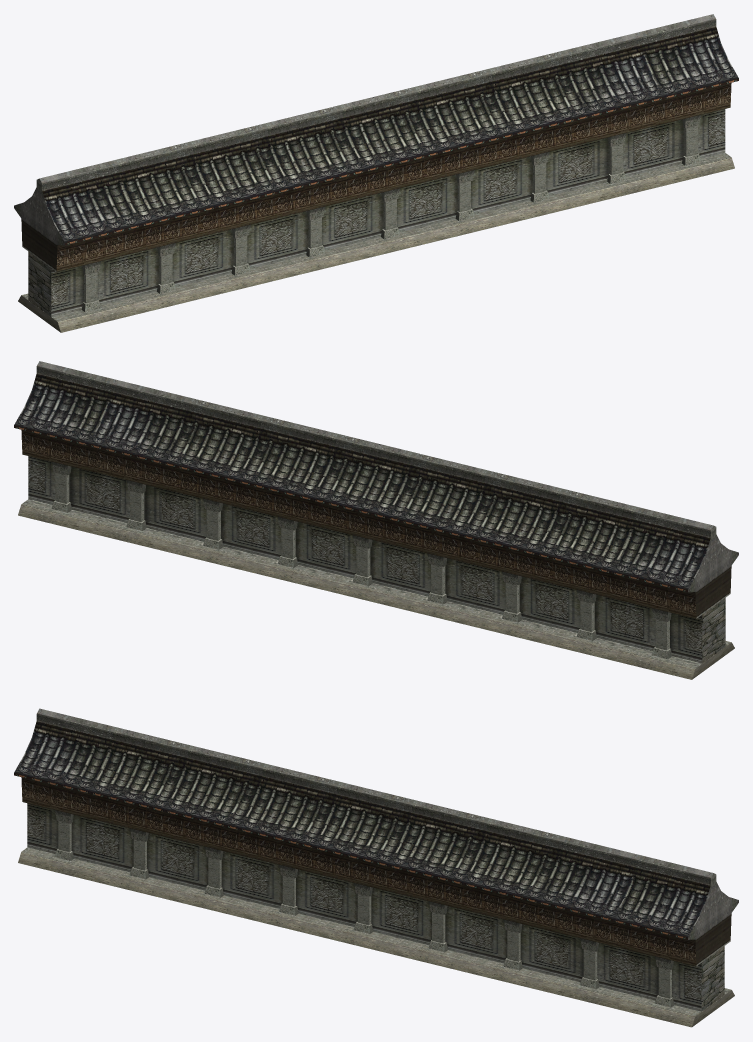
The model's file is 1st_wall_001.fbx.
The picture shows the model from 3 angles, top to bottom: view 1: azimuth 30°, elevation 25°; view 2: azimuth 150°, elevation 25°; view 3: azimuth 330°, elevation 25°; orthographic projection.
Parts seen in each view (by area): view 1: 12T_wall_29; view 2: 12T_wall_29; view 3: 12T_wall_29.
Boxes of the visible parts, x1,y1,x2,y2 form: 12T_wall_29: (14, 14, 738, 332); 12T_wall_29: (14, 361, 738, 679); 12T_wall_29: (14, 708, 738, 1027).
Size of the model in its own units: 12.58 by 2.47 by 1.65.
